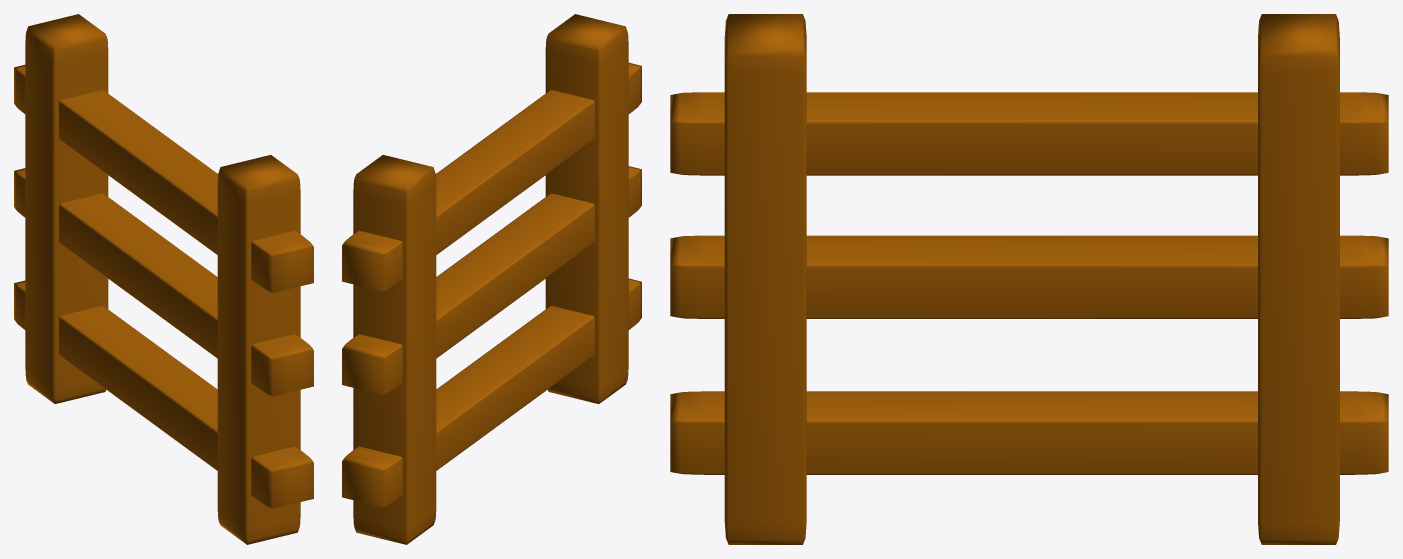
The model's file is cit.fbx.
3 views of the same model, side by side, from view 1: azimuth 30°, elevation 25°; view 2: azimuth 150°, elevation 25°; view 3: azimuth 270°, elevation 25° (orthographic). The views are drawn at different scales.
Parts seen in each view (by area): view 1: Cube.001; view 2: Cube.001; view 3: Cube.001.
Part boxes in pixels (x1=…): Cube.001: x1=14, y1=14, x2=313, y2=544; Cube.001: x1=342, y1=14, x2=641, y2=544; Cube.001: x1=670, y1=14, x2=1388, y2=544.
Size of the model in its own units: 32.7 by 201 by 263.
